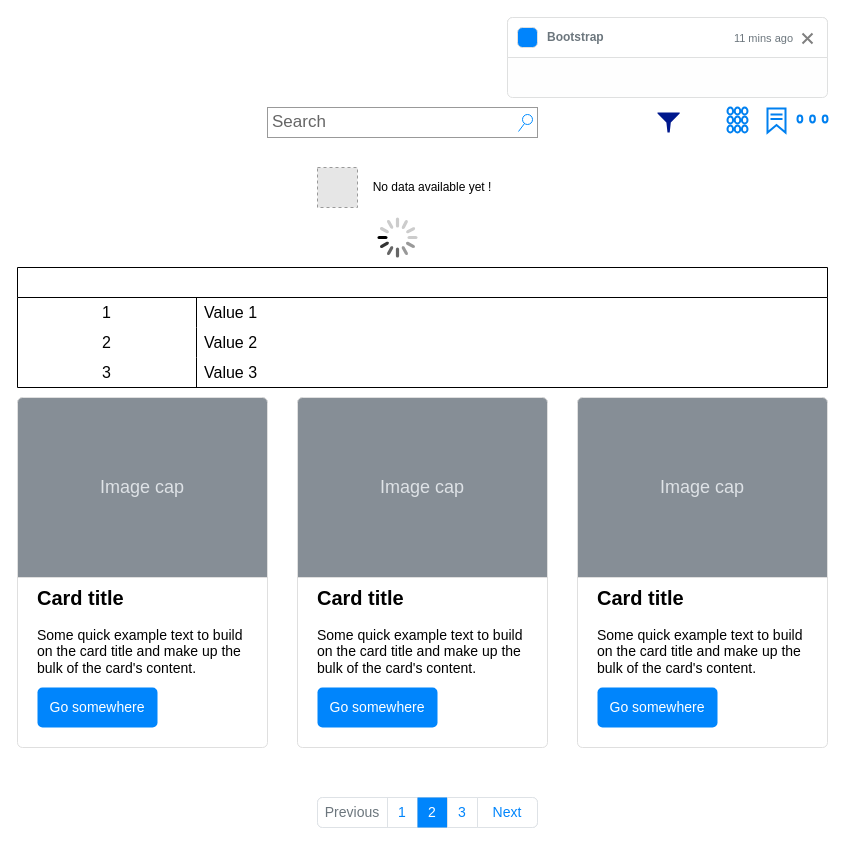
Some shapes in this 846 by 845 pixel diagram are drawn without their labels. Grey dashed boxes stand in for pictures. The box of each missing label's shape, as (x1, y1, x2, y2) in pixels:
Hello, world! This is a toast message.: (506, 16, 828, 98)
Table: (16, 266, 828, 388)
